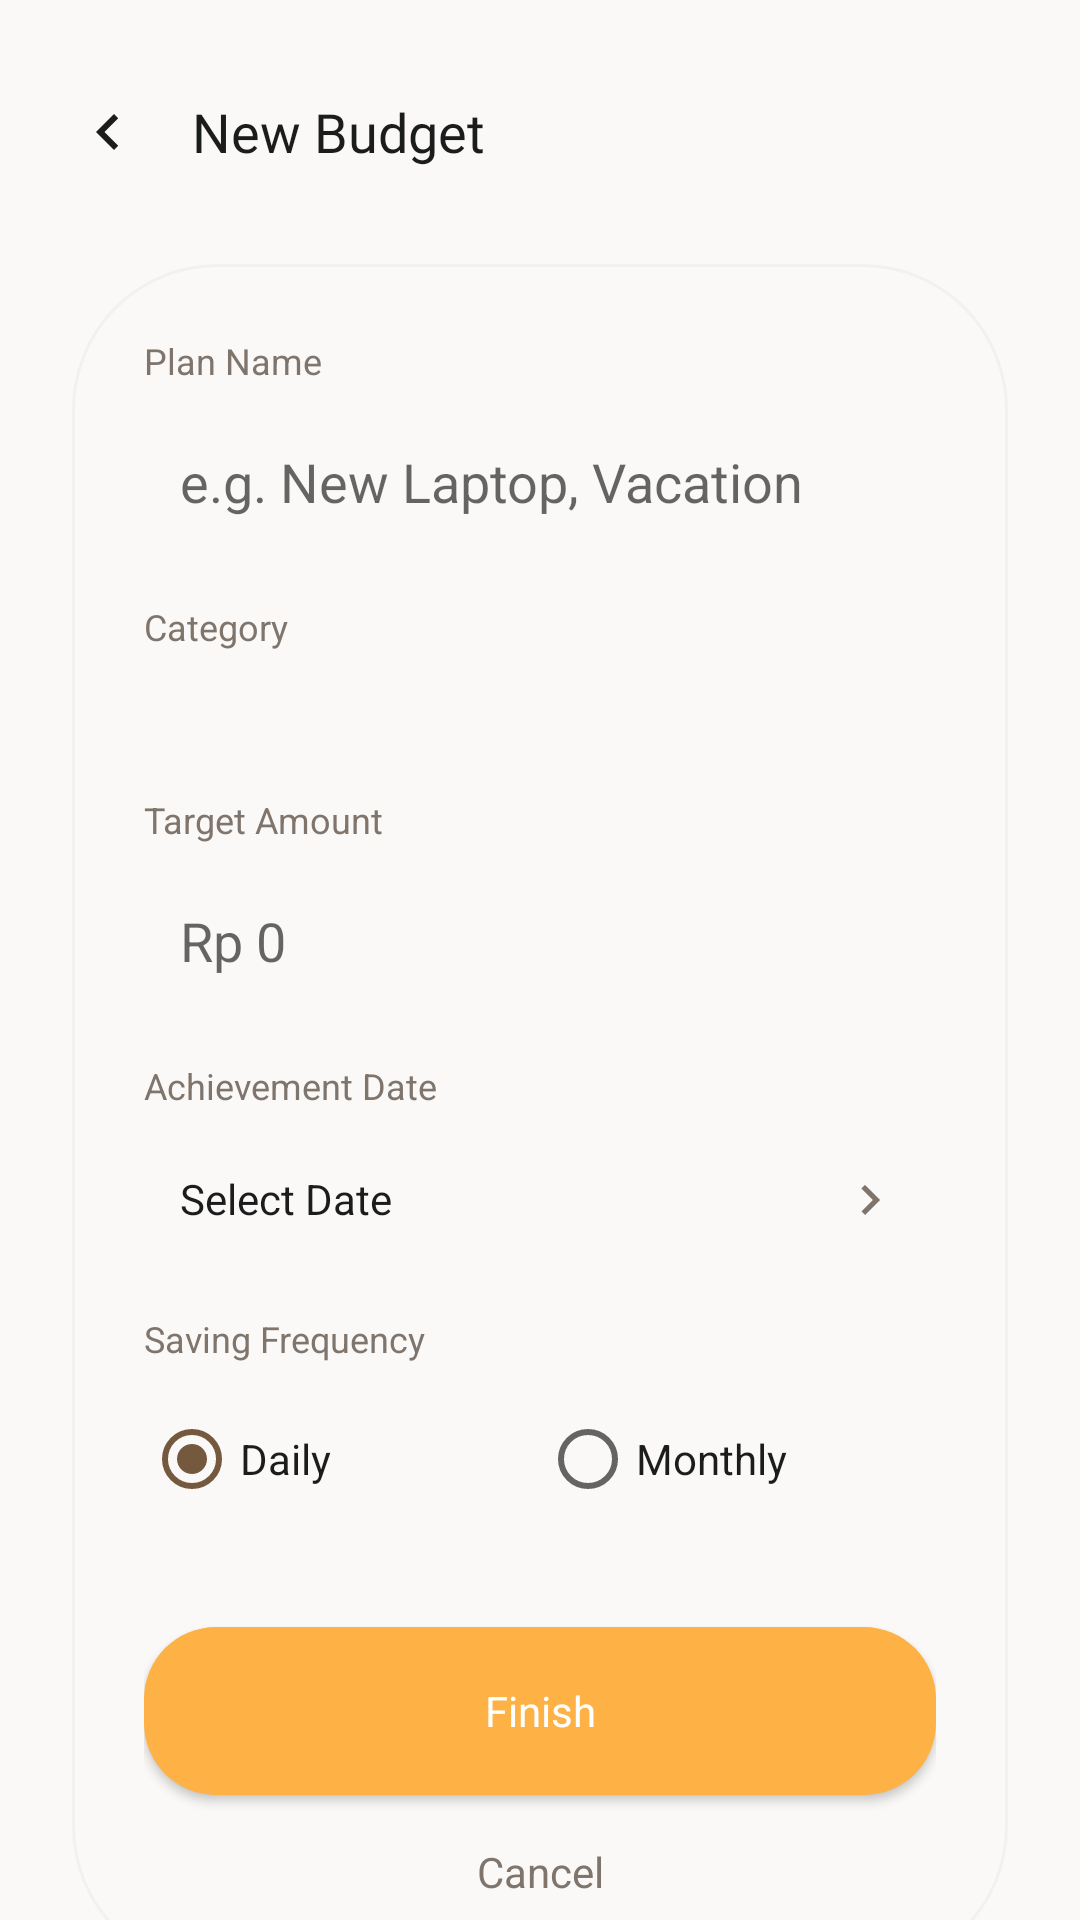

Locate icon controls on the screen. Image size 1080px x 1920px, boxes as (x1,y1,x2,y2).
arrow left: (96,114,118,150)
arrow right: (861,1185,880,1215)
